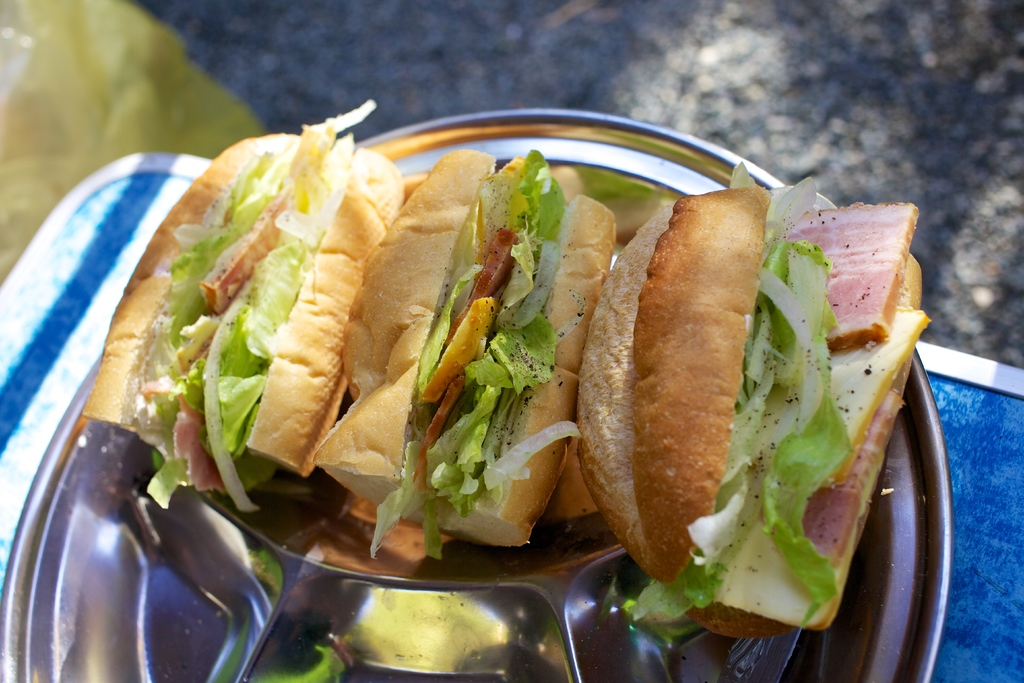sandwich: (82, 92, 931, 633)
